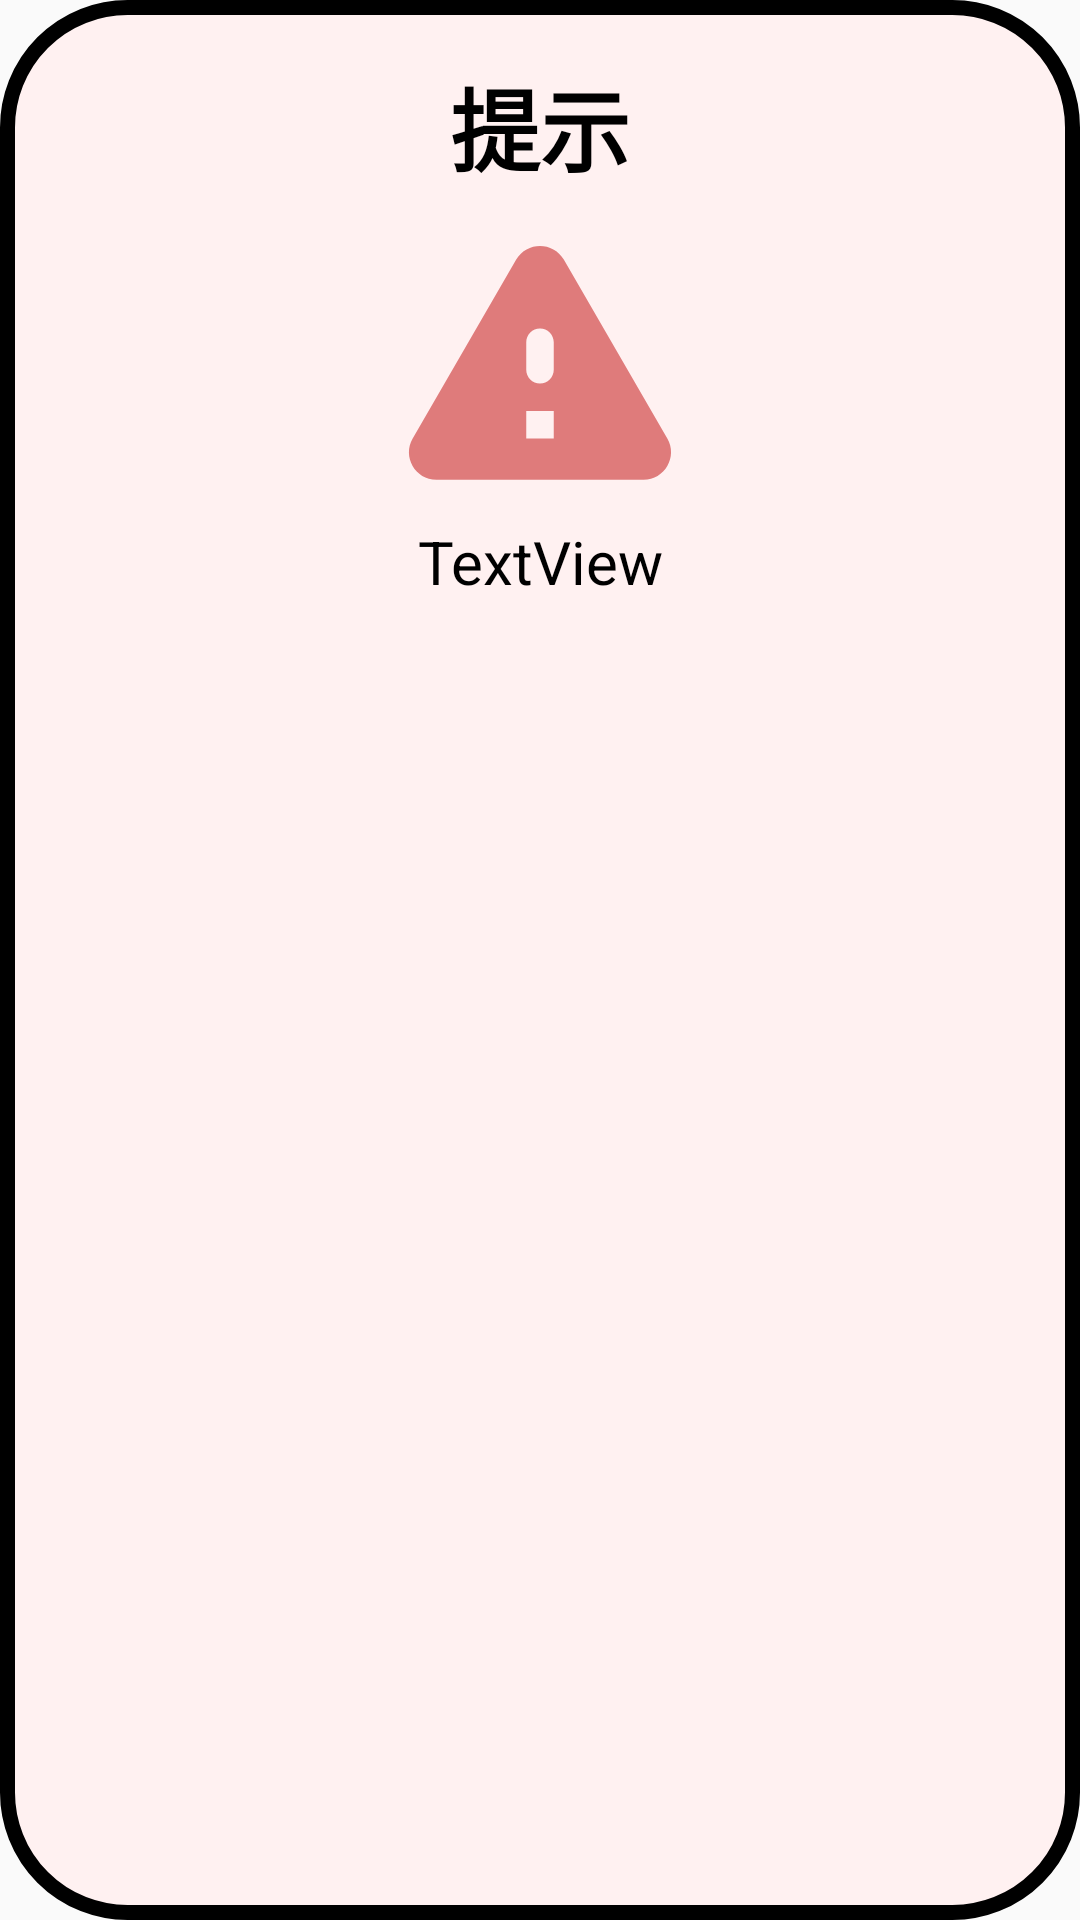

Point at icon controls on the screen. Image size 1080×1920, points as [x,y].
warning: [540,363]
